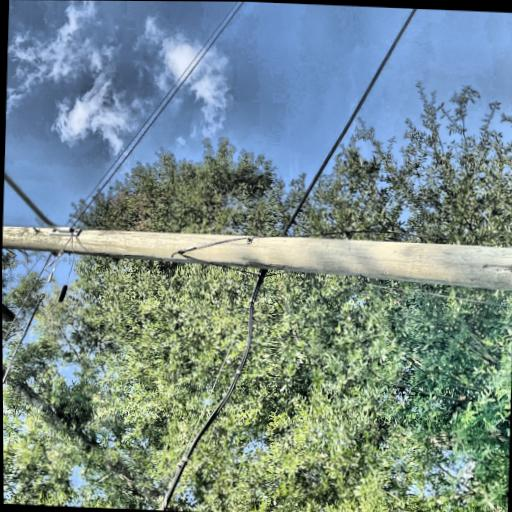insulator: (64, 91, 78, 110)
pole: (84, 4, 165, 510)
street light: (137, 13, 290, 203)
